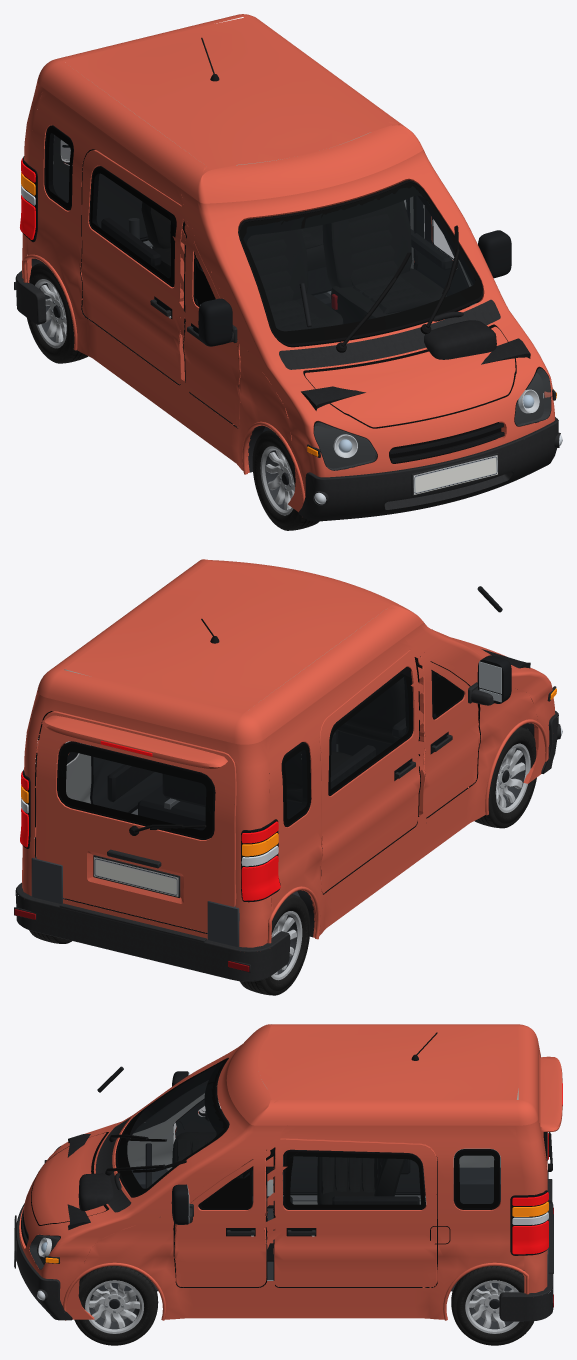
Rendered from kei-hatchback.glb.
3 views of the same model, one above another, from view 1: azimuth 30°, elevation 25°; view 2: azimuth 150°, elevation 25°; view 3: azimuth 270°, elevation 25° (orthographic). The views are drawn at different scales.
Parts seen in each view (by area): view 1: Kei_Hatchback, Door_Rear_R, Door_R, Wheel_Front_R, Door_L, Wheel_Rear_R, Tailgate; view 2: Kei_Hatchback, Tailgate, Door_Rear_R, Door_R, Wheel_Front_R, Wheel_Rear_R, Door_Rear_L; view 3: Kei_Hatchback, Door_Rear_L, Door_L, Wheel_Front_L, Wheel_Rear_L, Tailgate, Door_Rear_R, Door_R.
Part boxes in pixels (box(x1,y1,x2,y2)): Kei_Hatchback: box(14, 14, 562, 521); Door_Rear_R: box(81, 150, 185, 384); Door_R: box(181, 206, 240, 427); Wheel_Front_R: box(252, 429, 319, 530); Door_L: box(411, 196, 511, 311); Wheel_Rear_R: box(27, 262, 88, 363); Tailgate: box(53, 135, 147, 240); Kei_Hatchback: box(14, 559, 562, 981); Tailgate: box(36, 711, 236, 932); Door_Rear_R: box(319, 649, 420, 893); Door_R: box(392, 646, 511, 817); Wheel_Front_R: box(474, 726, 536, 828); Wheel_Rear_R: box(240, 894, 310, 995); Door_Rear_L: box(90, 748, 162, 812); Kei_Hatchback: box(14, 1024, 553, 1321); Door_Rear_L: box(274, 1138, 437, 1287); Door_L: box(171, 1138, 292, 1286); Wheel_Front_L: box(74, 1266, 158, 1345); Wheel_Rear_L: box(451, 1266, 533, 1345); Tailgate: box(539, 1055, 562, 1203); Door_Rear_R: box(282, 1149, 425, 1193); Door_R: box(172, 1071, 283, 1173).
Bounding box in the file's own units: 1.89 × 1.89 × 3.52.
Materials: 54 (9 with a texture image).
